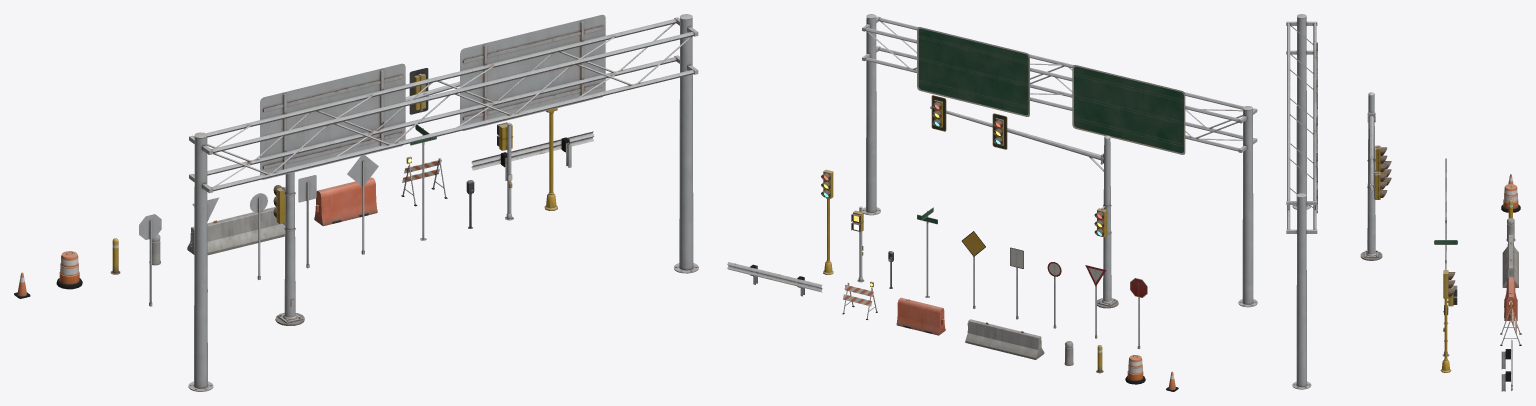
Rendered from set_traffic_control.glb.
3 renders of one model, left to right at view 1: azimuth 30°, elevation 25°; view 2: azimuth 150°, elevation 25°; view 3: azimuth 270°, elevation 25°, orthographic. The views are drawn at different scales.
Visible parts, largest first — view 1: sign_gantry_lod0, traffic_signal_mast_lod0, jersey_barrier_lod0, water_barrier_lod0, guard_rail_lod0, pedestrian_signal_lod0, sign_diamond_lod0, traffic_barrel_lod0, work_barricade_lod0, sign_octagon_lod0, sign_rectangle_lod0, traffic_signal_post_lod0; view 2: sign_gantry_lod0, traffic_signal_mast_lod0, jersey_barrier_lod0, water_barrier_lod0, guard_rail_lod0, traffic_signal_post_lod0, work_barricade_lod0, pedestrian_signal_lod0, traffic_barrel_lod0; view 3: sign_gantry_lod0, traffic_signal_mast_lod0, jersey_barrier_lod0, traffic_signal_post_lod0, water_barrier_lod0, guard_rail_lod0, traffic_barrel_lod0, work_barricade_lod0.
Boxes of the visible parts, box(x1,y1,x2,y2) form: sign_gantry_lod0: box(188, 14, 698, 391); traffic_signal_mast_lod0: box(273, 68, 459, 325); jersey_barrier_lod0: box(187, 206, 285, 255); water_barrier_lod0: box(314, 177, 377, 226); guard_rail_lod0: box(471, 131, 594, 180); pedestrian_signal_lod0: box(497, 122, 513, 220); sign_diamond_lod0: box(347, 155, 378, 254); traffic_barrel_lod0: box(56, 251, 82, 289); work_barricade_lod0: box(401, 156, 447, 206); sign_octagon_lod0: box(139, 214, 161, 306); sign_rectangle_lod0: box(298, 175, 316, 268); traffic_signal_post_lod0: box(544, 108, 557, 210); sign_gantry_lod0: box(862, 14, 1257, 307); traffic_signal_mast_lod0: box(930, 95, 1118, 308); jersey_barrier_lod0: box(965, 319, 1044, 359); water_barrier_lod0: box(896, 297, 945, 335); guard_rail_lod0: box(727, 262, 822, 296); traffic_signal_post_lod0: box(821, 169, 833, 274); work_barricade_lod0: box(842, 281, 877, 319); pedestrian_signal_lod0: box(851, 206, 864, 282); traffic_barrel_lod0: box(1125, 355, 1145, 384); sign_gantry_lod0: box(1286, 14, 1317, 389); traffic_signal_mast_lod0: box(1360, 92, 1391, 260); jersey_barrier_lod0: box(1502, 235, 1518, 287); traffic_signal_post_lod0: box(1440, 270, 1455, 372); water_barrier_lod0: box(1504, 277, 1517, 320); guard_rail_lod0: box(1501, 339, 1512, 391); traffic_barrel_lod0: box(1501, 184, 1520, 212); work_barricade_lod0: box(1500, 300, 1521, 345).
Size of what is drawn, in the model's own units: 19.04 by 8.31 by 8.87.
Materials: 7 (7 with a texture image).
